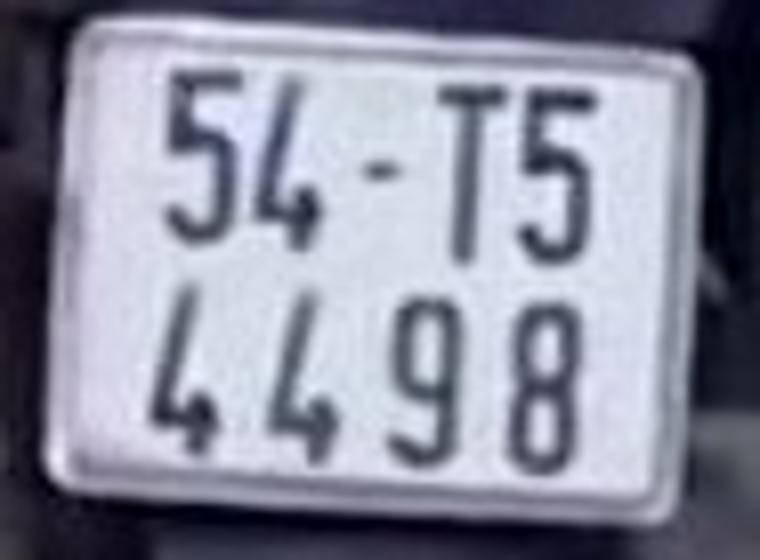-: (358, 154, 404, 184)
4: (264, 294, 344, 463), (249, 74, 325, 248), (148, 284, 223, 457)
5: (160, 62, 247, 246), (521, 80, 598, 268)
8: (503, 296, 584, 475)
9: (381, 292, 468, 467)
T: (433, 79, 513, 264)
